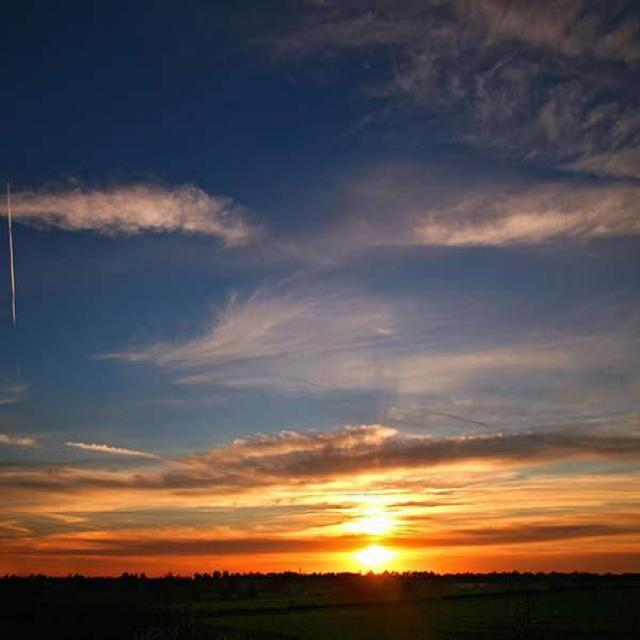other: (316, 472, 436, 579)
